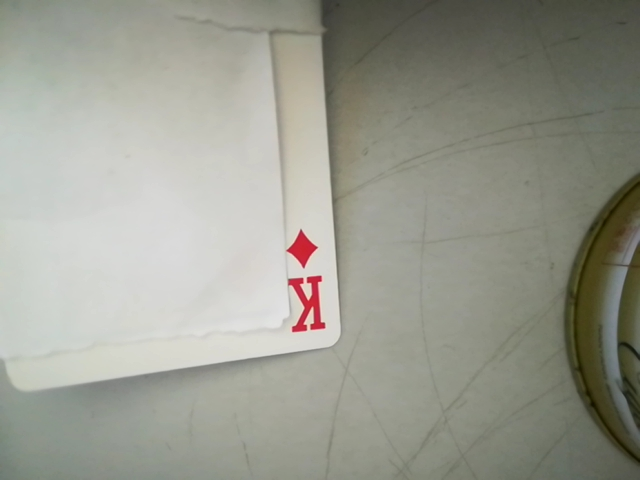fk k: (275, 219, 337, 345)
